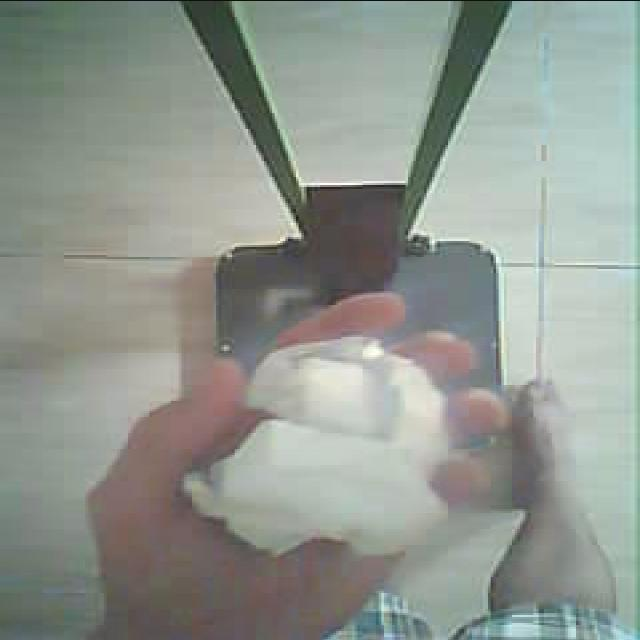Paper: (216, 316, 527, 623)
